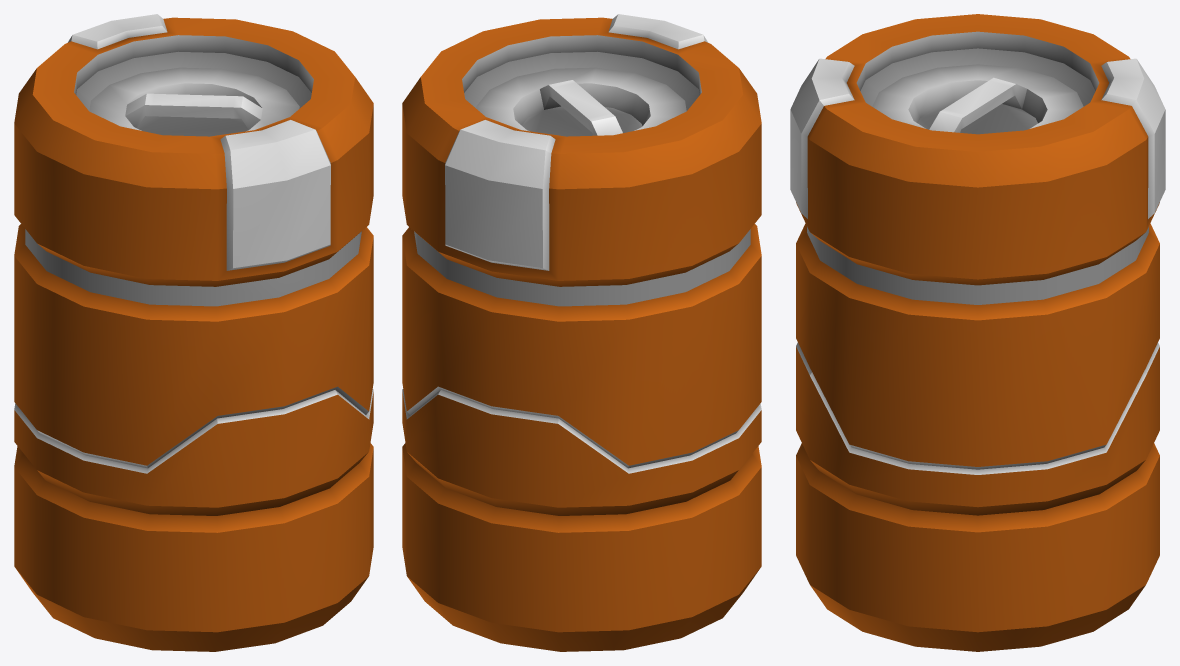
The model's file is deco_barrel.FBX.
The picture shows the model from 3 angles, left to right: view 1: azimuth 30°, elevation 25°; view 2: azimuth 150°, elevation 25°; view 3: azimuth 270°, elevation 25°; orthographic projection.
Parts seen in each view (by area): view 1: deco_barrel; view 2: deco_barrel; view 3: deco_barrel.
Boxes of the visible parts, <box> form: deco_barrel: <box>14,14,373,651</box>; deco_barrel: <box>402,14,761,651</box>; deco_barrel: <box>790,14,1165,651</box>.
Bounding box in the file's own units: 0.66 × 1.01 × 0.6806.
